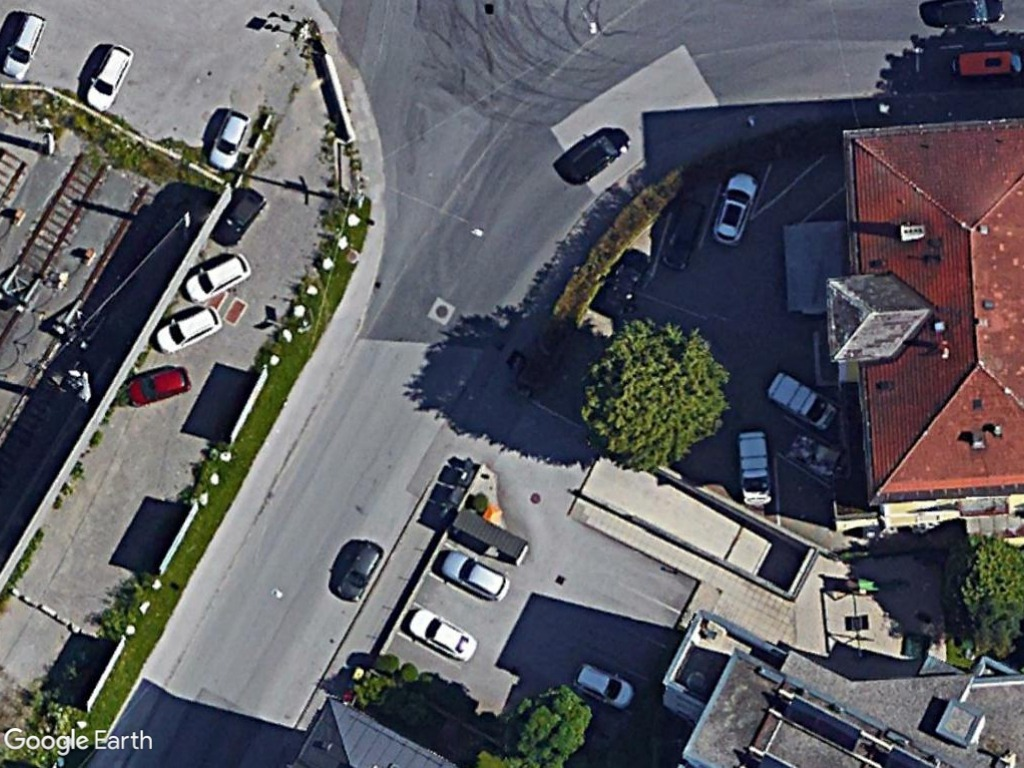car: (401, 604, 481, 668), (435, 546, 516, 607), (79, 34, 137, 117), (704, 168, 765, 246), (179, 247, 254, 310), (331, 533, 387, 610), (152, 298, 224, 357), (572, 654, 641, 712), (121, 359, 192, 411), (0, 10, 46, 84), (205, 104, 252, 175)
